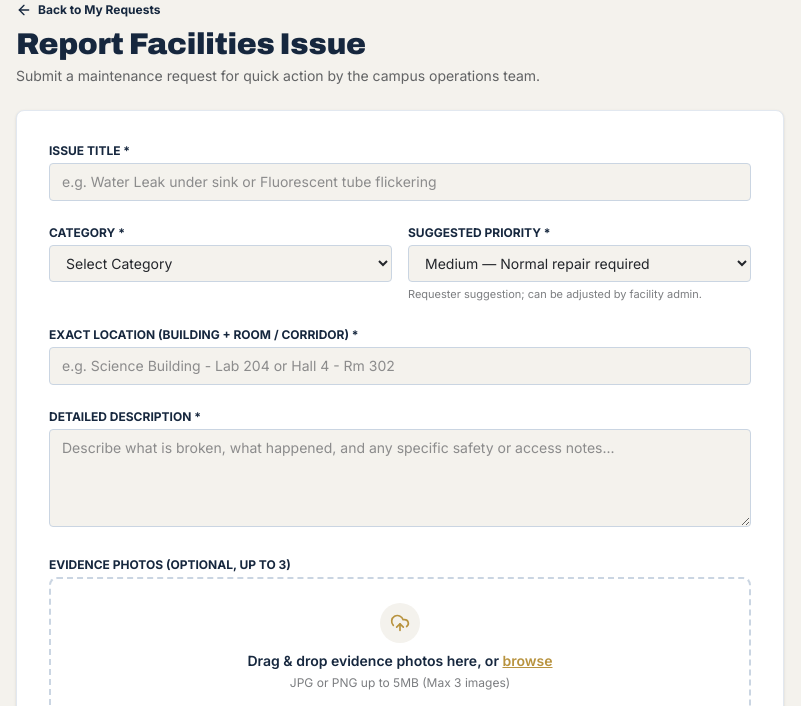
Test: NewRequestPage Component › validates minimum length for title and description
This screenshot has width=801, height=706.
Type "ab" into the field with placeholder "e.g. Water Leak under sink or Fluorescent tube flickering". click: (400, 182)
box: [49,163,751,201]
(page scrolled)
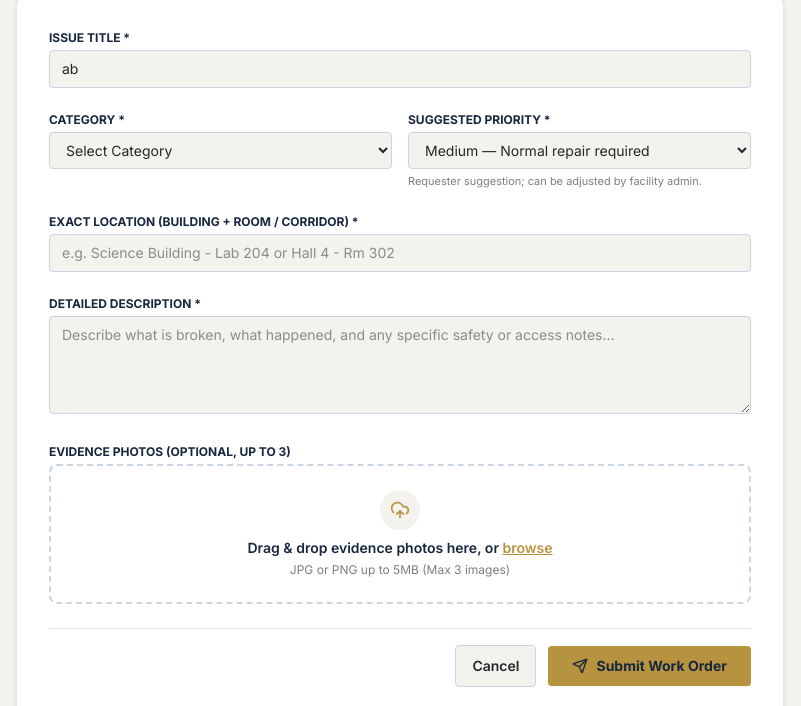
Click the button "Submit Work Order". click: (650, 666)
box: [548,646,751,686]
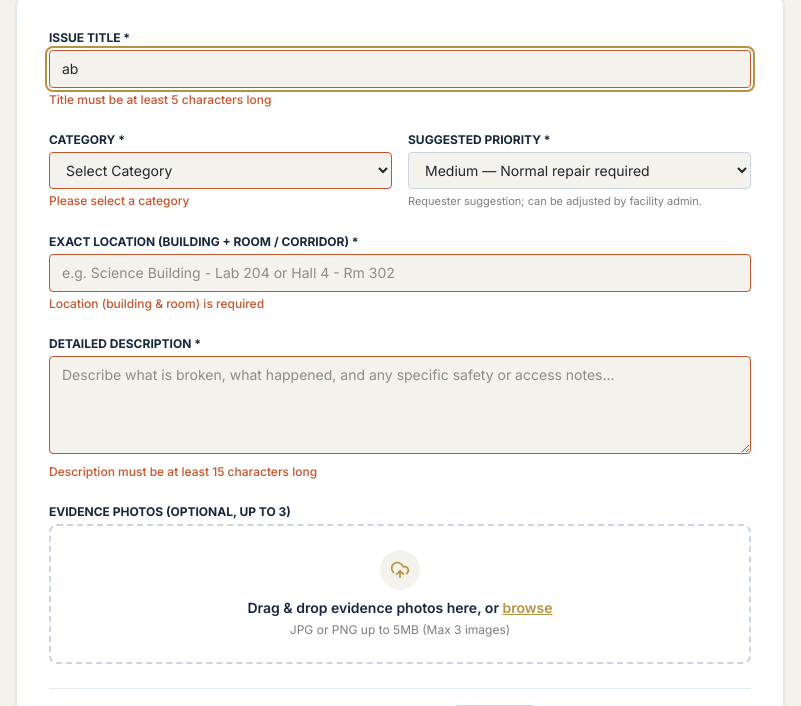
Result: the text "Title must be at least 5 characters long" is shown at [49,92,271,107]
